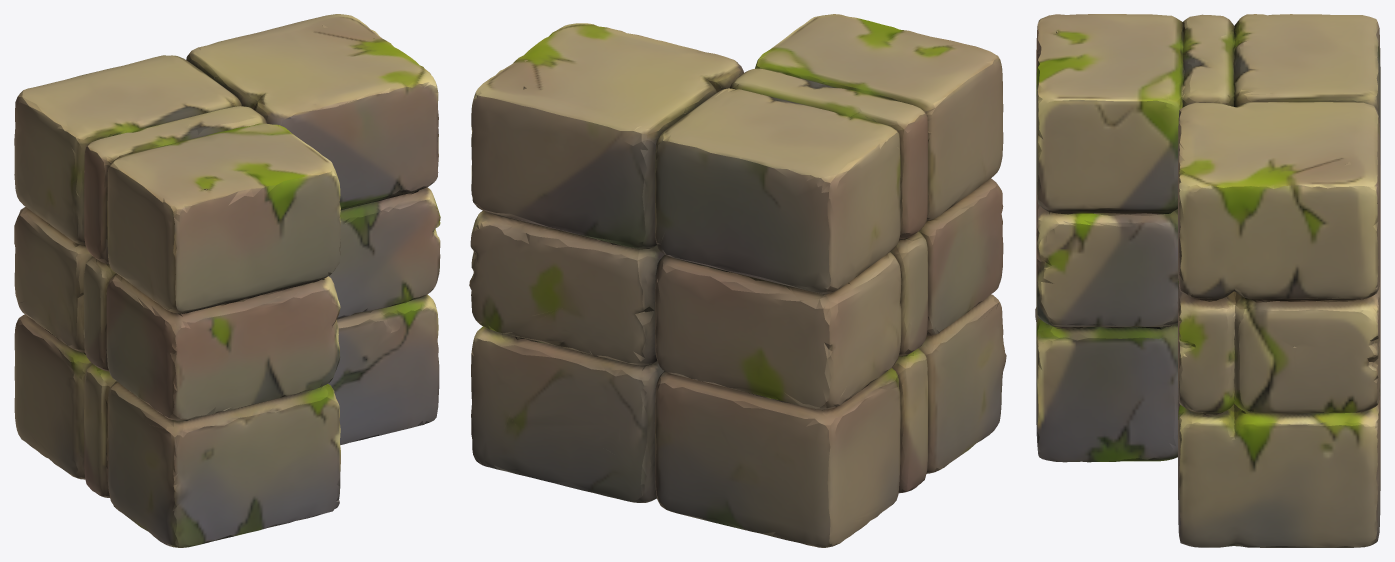
Rendered from rodin_Lab_WallCorner_raw.glb.
3 renders of one model, left to right at view 1: azimuth 30°, elevation 25°; view 2: azimuth 150°, elevation 25°; view 3: azimuth 270°, elevation 25°, orthographic. The views are drawn at different scales.
Visible parts, largest first — view 1: model; view 2: model; view 3: model.
Part boxes in pixels (<box>): model: <box>14,14,440,547</box>; model: <box>469,14,1006,547</box>; model: <box>1035,14,1380,547</box>.
Size of the model in its own units: 1.88 by 1.86 by 1.57.
1 material, 1 textured.
